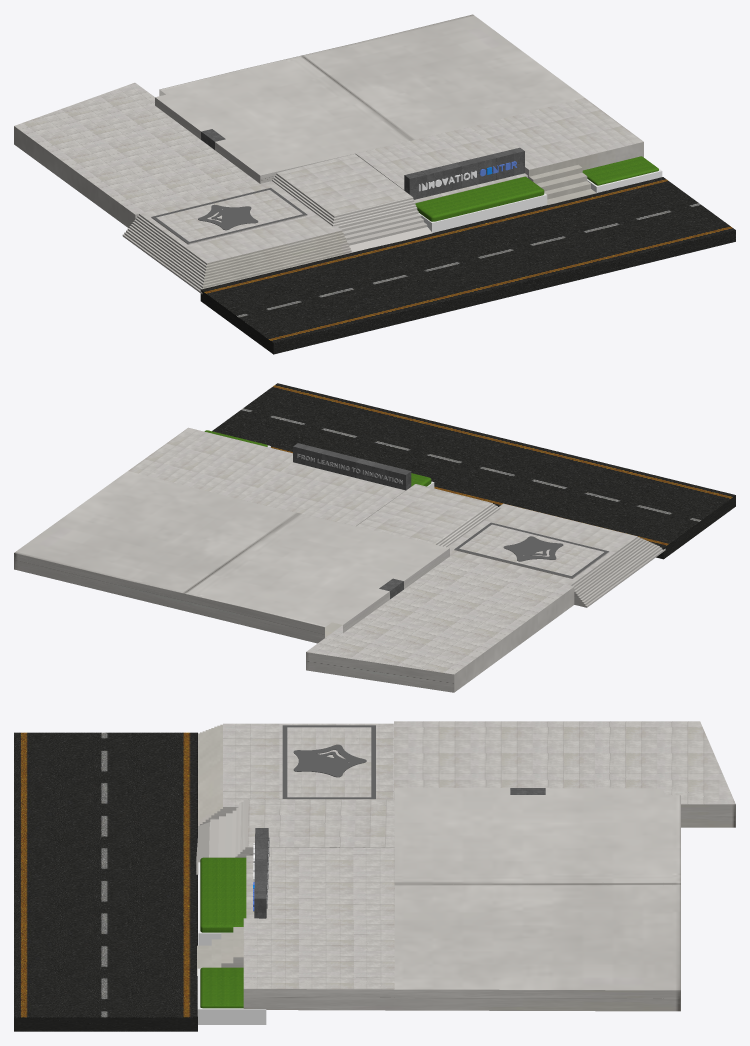
File: outdoor.fbx
The picture shows the model from 3 angles, top to bottom: view 1: azimuth 30°, elevation 25°; view 2: azimuth 150°, elevation 25°; view 3: azimuth 270°, elevation 25°; orthographic projection. The views are drawn at different scales.
Parts seen in each view (by area): view 1: innocent; view 2: innocent; view 3: innocent.
Boxes of the visible parts, left/top/right/bottom form: innocent: left=14, top=14, right=735, bottom=354; innocent: left=14, top=383, right=735, bottom=692; innocent: left=14, top=721, right=735, bottom=1031.
Bounding box in the file's own units: 5269 × 533 × 5625.
